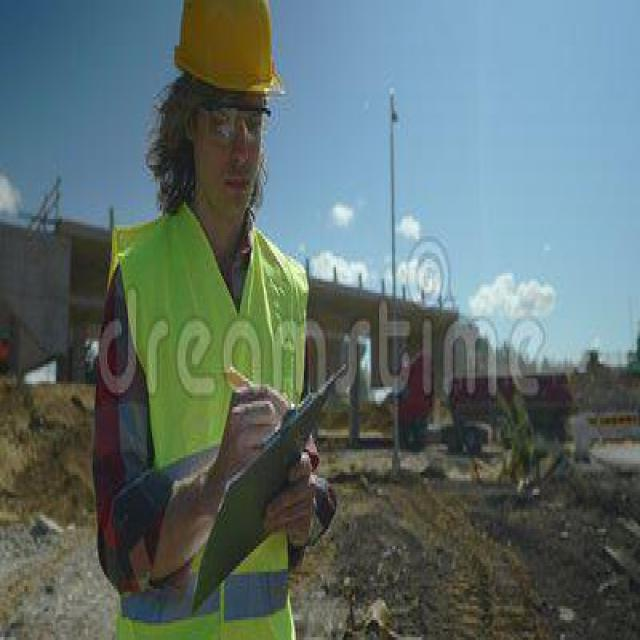hat: (175, 0, 284, 97)
